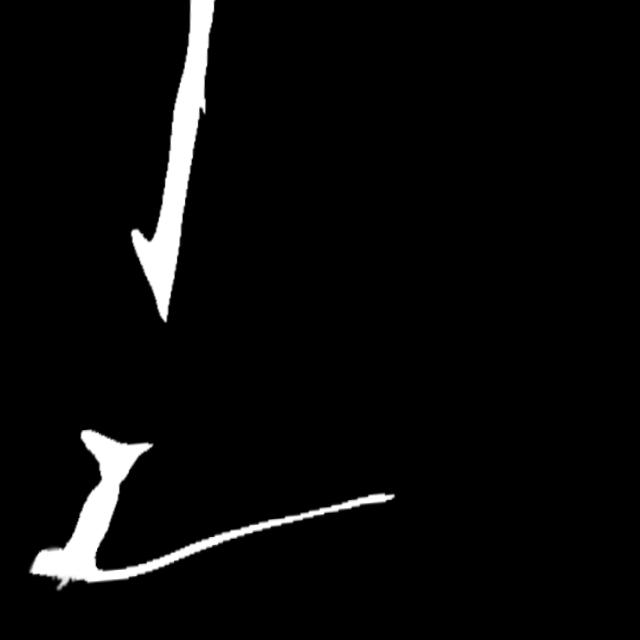sup_pli: (60, 571, 81, 601)
